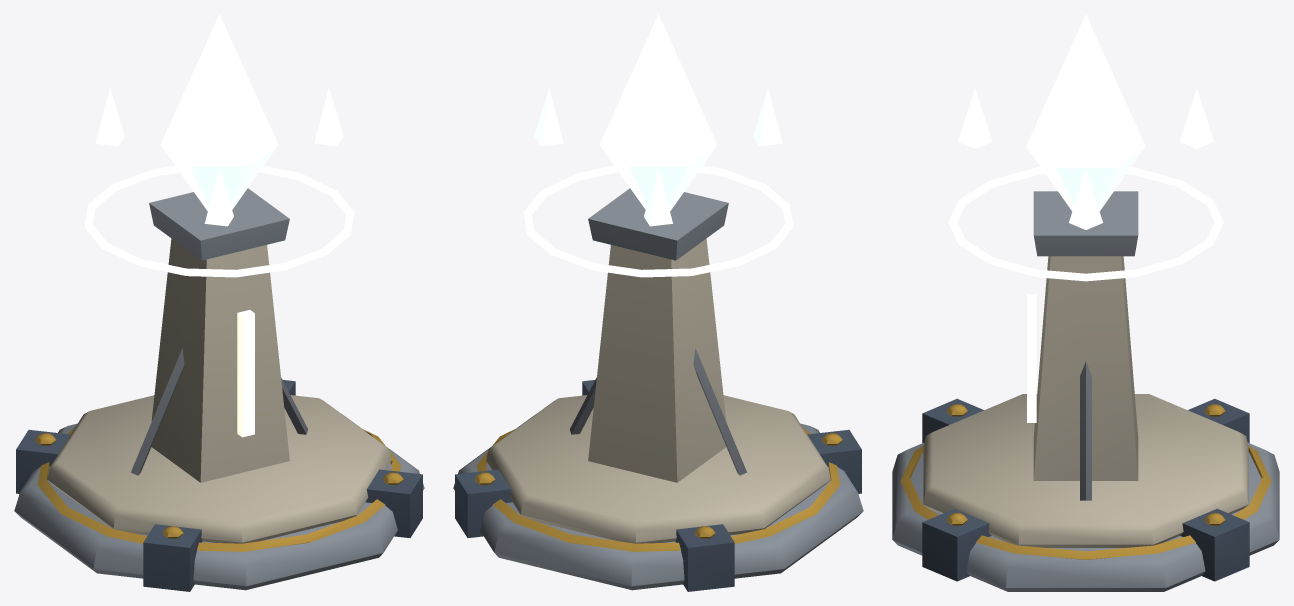
File: alliance_8.glb
3 views of the same model, side by side, from view 1: azimuth 30°, elevation 25°; view 2: azimuth 150°, elevation 25°; view 3: azimuth 270°, elevation 25° (orthographic).
Visible parts, largest first — view 1: alliance_8_peint, Cristal_lueur, Givre, Eclats_lueur, Rune; view 2: alliance_8_peint, Cristal_lueur, Givre, Eclats_lueur; view 3: alliance_8_peint, Cristal_lueur, Givre, Eclats_lueur, Rune.
Boxes of the visible parts, <box> form: alliance_8_peint: <box>14,188,424,591</box>; Cristal_lueur: <box>160,14,278,210</box>; Givre: <box>84,165,354,277</box>; Eclats_lueur: <box>95,88,343,226</box>; Rune: <box>237,310,254,437</box>; alliance_8_peint: <box>453,188,863,591</box>; Cristal_lueur: <box>599,14,717,210</box>; Givre: <box>523,165,793,277</box>; Eclats_lueur: <box>534,88,782,226</box>; alliance_8_peint: <box>892,191,1279,591</box>; Cristal_lueur: <box>1026,14,1145,211</box>; Givre: <box>948,167,1223,281</box>; Eclats_lueur: <box>958,88,1213,229</box>; Rune: <box>1027,294,1036,422</box>.
Size of the model in its own units: 0.7869 by 1.12 by 0.7869.
